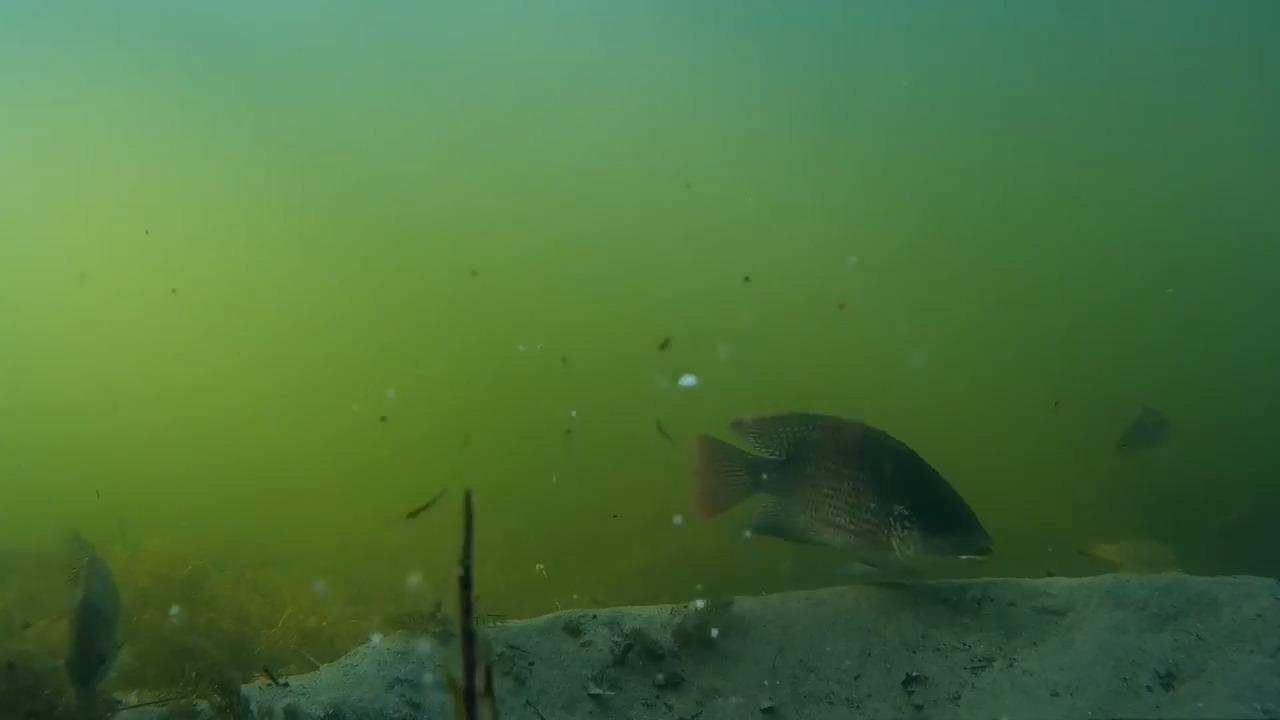Tilapia: (694, 408, 1003, 614), (25, 524, 129, 710), (1076, 534, 1219, 604)
